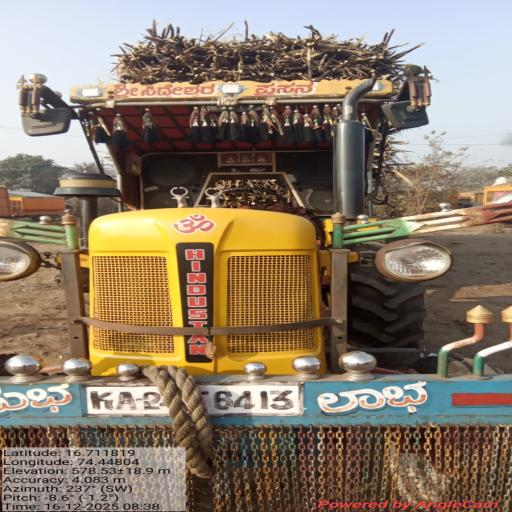number_plate: (200, 383, 303, 415)
